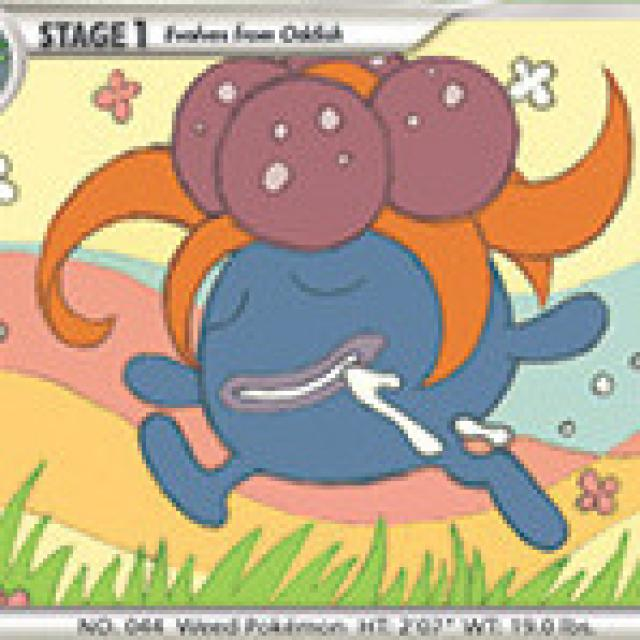Gloom: (165, 59, 635, 498)
